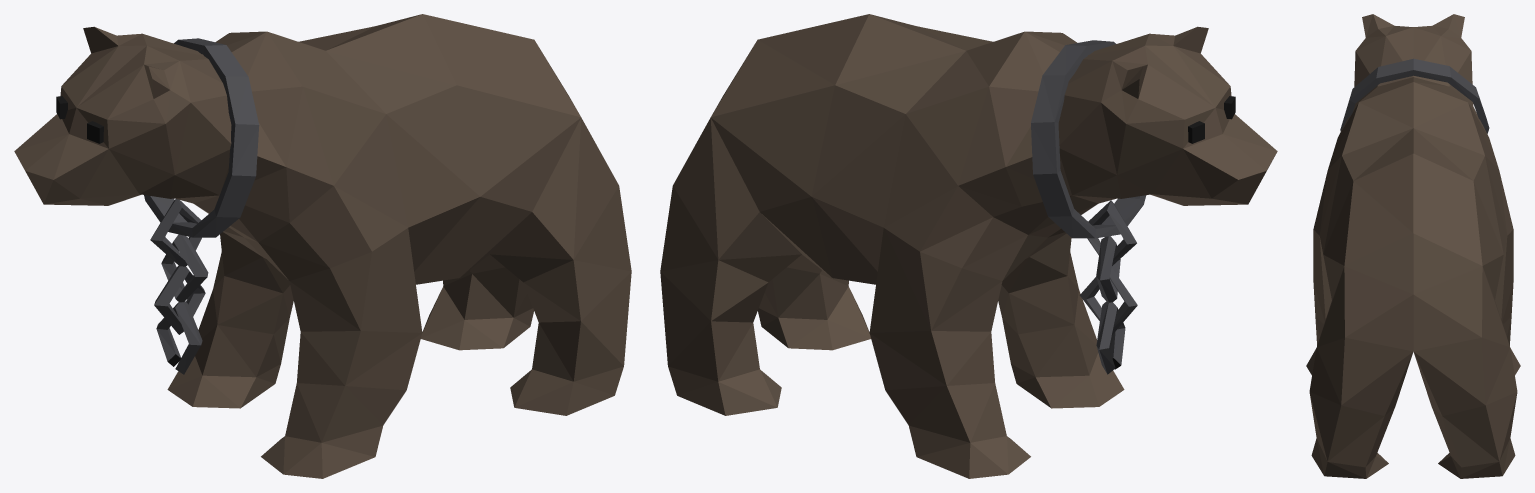
The model's file is bear.obj.
The picture shows the model from 3 angles, left to right: view 1: azimuth 30°, elevation 25°; view 2: azimuth 150°, elevation 25°; view 3: azimuth 270°, elevation 25°; orthographic projection. The views are drawn at different scales.
Visible parts, largest first — view 1: Bear_Plane; view 2: Bear_Plane; view 3: Bear_Plane.
Part boxes in pixels (bbox=[...]): Bear_Plane: bbox=[14, 14, 631, 478]; Bear_Plane: bbox=[660, 14, 1277, 478]; Bear_Plane: bbox=[1306, 14, 1520, 478].
Bounding box in the file's own units: 3.07 × 2.16 × 1.38.
